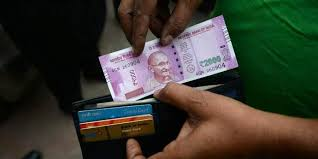twoThousand: (114, 45, 229, 91)
